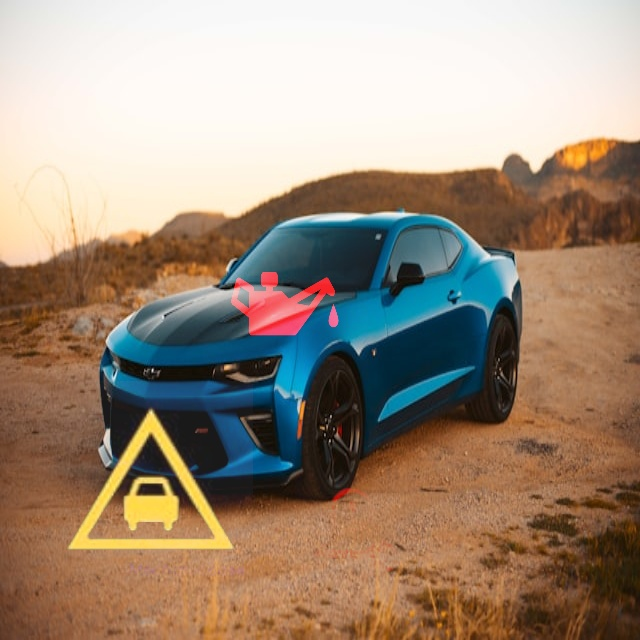symbol: (48, 381, 253, 586), (203, 215, 368, 380), (295, 471, 416, 592)
